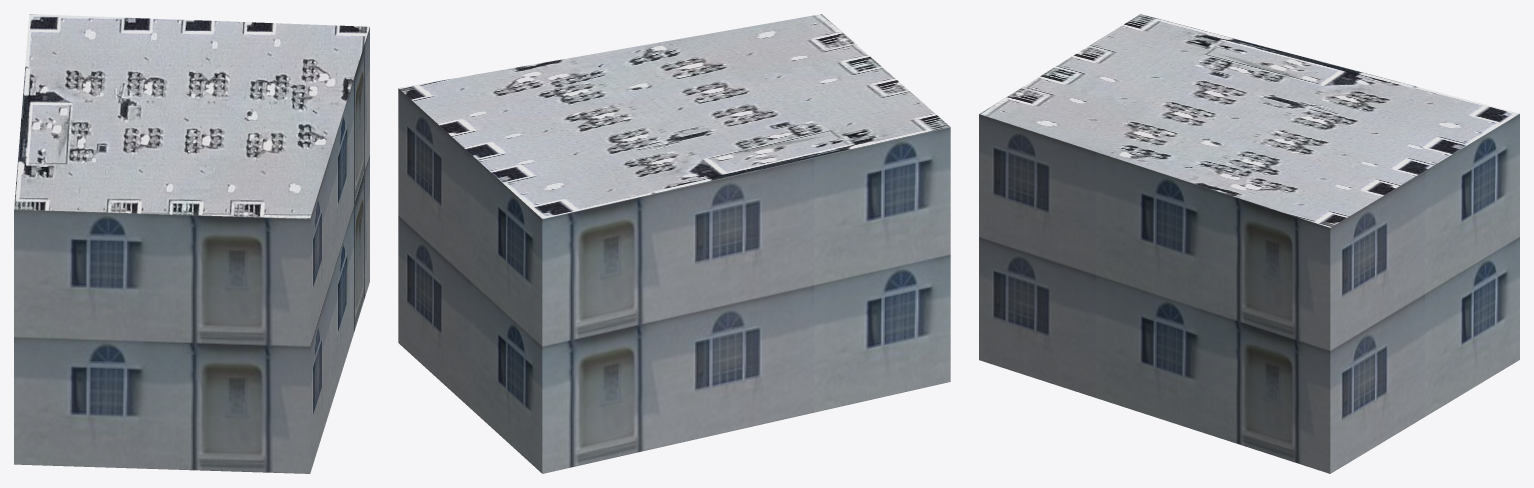
File: ResTex__3268.fbx
3 renders of one model, left to right at view 1: azimuth 30°, elevation 25°; view 2: azimuth 150°, elevation 25°; view 3: azimuth 270°, elevation 25°, orthographic. The views are drawn at different scales.
Parts seen in each view (by area): view 1: CityEngineMaterial_17_m, CityEngineMaterial_4_m; view 2: CityEngineMaterial_17_m, CityEngineMaterial_4_m; view 3: CityEngineMaterial_17_m, CityEngineMaterial_4_m.
Part boxes in pixels (box(x1,y1,x2,y2)): CityEngineMaterial_17_m: box(14, 27, 369, 473); CityEngineMaterial_4_m: box(14, 14, 369, 218); CityEngineMaterial_17_m: box(398, 88, 950, 473); CityEngineMaterial_4_m: box(398, 14, 949, 218); CityEngineMaterial_17_m: box(979, 114, 1519, 473); CityEngineMaterial_4_m: box(979, 14, 1519, 227).
Size of the model in its own units: 11.18 by 6 by 11.95.
2 materials, 2 textured.
